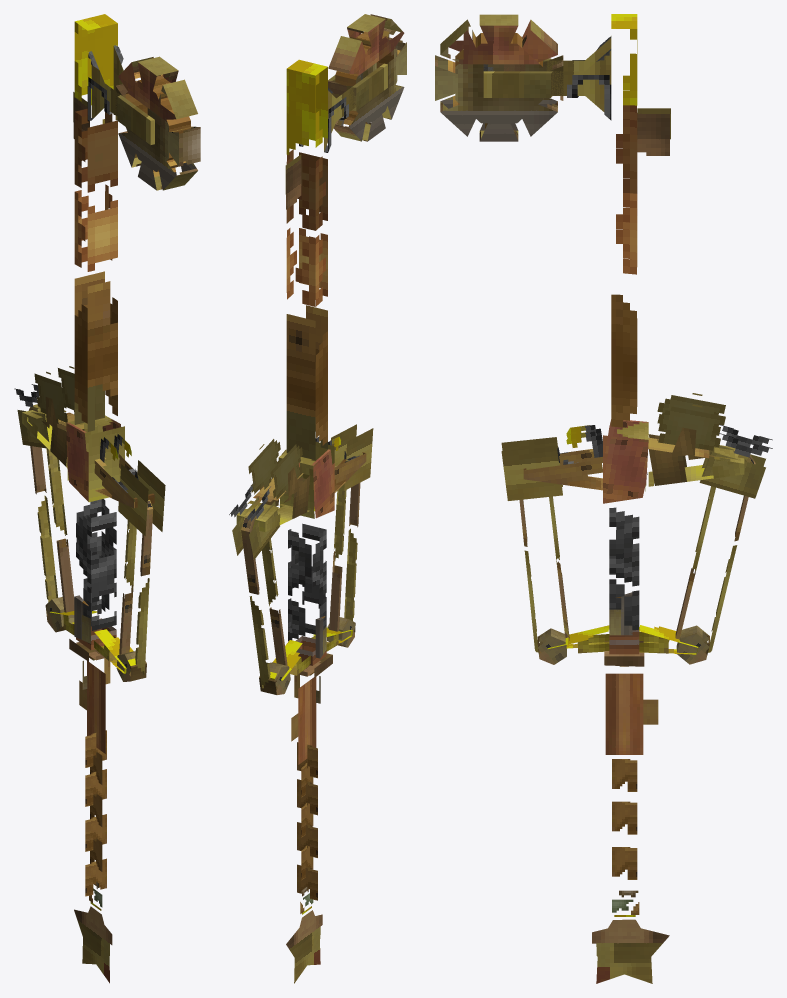
The model's file is wishingstar.obj.
3 views of the same model, side by side, from view 1: azimuth 30°, elevation 25°; view 2: azimuth 150°, elevation 25°; view 3: azimuth 270°, elevation 25° (orthographic). The views are drawn at different scales.
Parts seen in each view (by area): view 1: mesh; view 2: mesh; view 3: mesh.
Boxes of the visible parts, <box> form: mesh: <box>14,14,200,983</box>; mesh: <box>229,14,406,983</box>; mesh: <box>435,14,772,983</box>.
Size of the model in its own units: 5.06 by 127 by 40.45.
